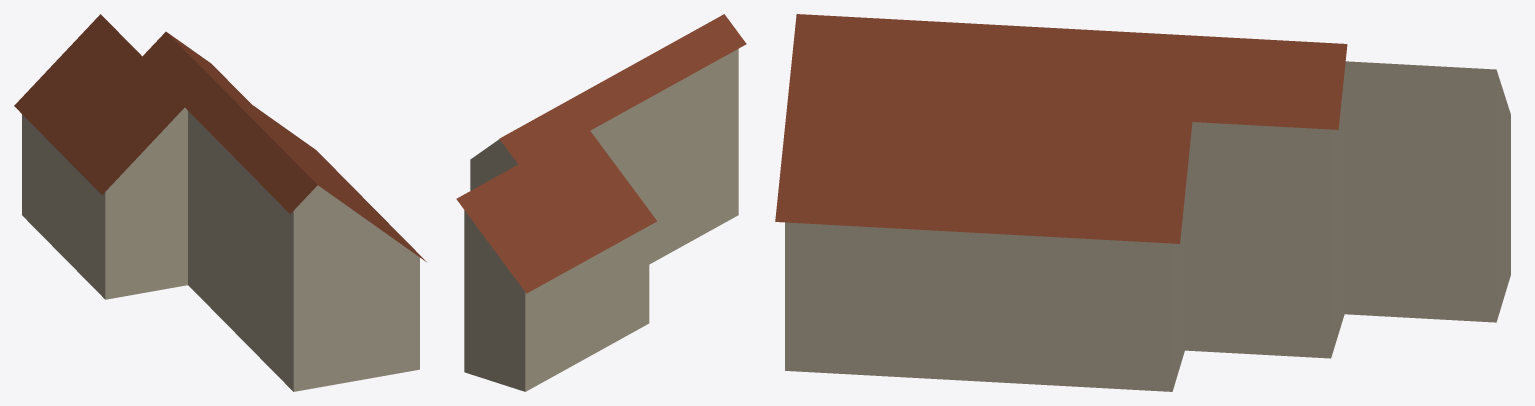
The picture shows the model from 3 angles, left to right: view 1: azimuth 30°, elevation 25°; view 2: azimuth 150°, elevation 25°; view 3: azimuth 270°, elevation 25°; orthographic projection. The views are drawn at different scales.
Parts seen in each view (by area): view 1: buildings; view 2: buildings; view 3: buildings.
Boxes of the visible parts, left/top/right/bottom form: buildings: left=14, top=14, right=426, bottom=391; buildings: left=456, top=14, right=746, bottom=391; buildings: left=775, top=14, right=1510, bottom=391.
Size of the model in its own units: 11.7 by 11.1 by 25.9.
